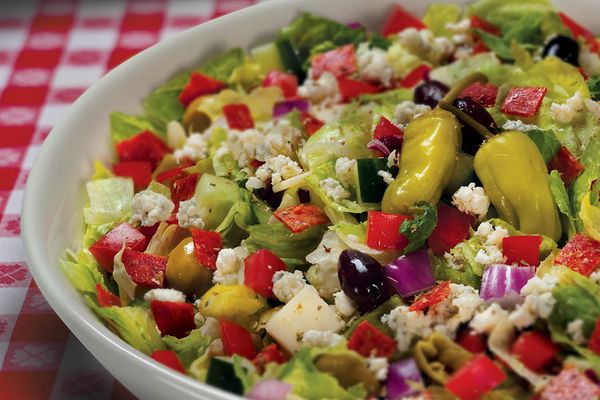curry: (274, 11, 376, 81)
sushi: (13, 0, 595, 392)
